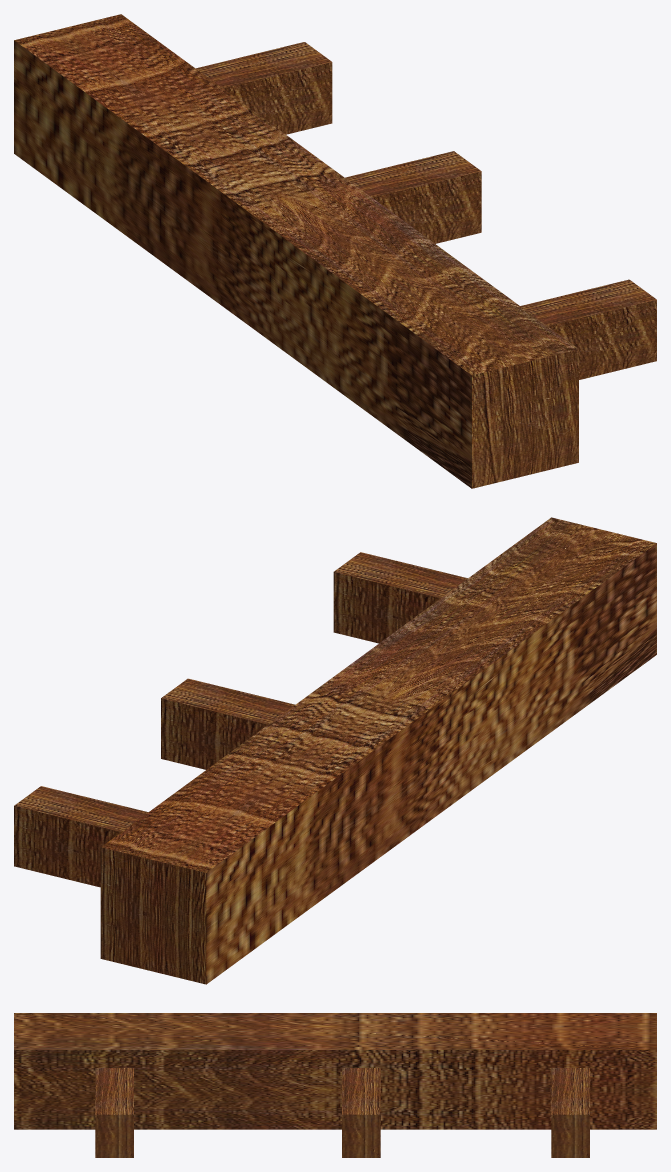
File: Hook.obj
3 views of the same model, one above another, from view 1: azimuth 30°, elevation 25°; view 2: azimuth 150°, elevation 25°; view 3: azimuth 270°, elevation 25° (orthographic). The views are drawn at different scales.
Visible parts, largest first — view 1: Cube, Cube.009, Cube.011, Cube.010; view 2: Cube, Cube.011, Cube.009, Cube.010; view 3: Cube, Cube.009, Cube.010, Cube.011.
Boxes of the visible parts, x1,y1,x2,y2 form: Cube: (14,14,578,488); Cube.009: (520,279,656,379); Cube.011: (196,42,332,134); Cube.010: (345,151,481,243); Cube: (100,517,656,984); Cube.011: (14,786,148,887); Cube.009: (333,552,467,643); Cube.010: (161,678,294,769); Cube: (14,1013,656,1129); Cube.009: (95,1068,133,1157); Cube.010: (342,1068,380,1157); Cube.011: (551,1068,589,1157).
Size of the model in its own units: 1.48 by 0.6612 by 4.84.
1 material, 1 textured.
